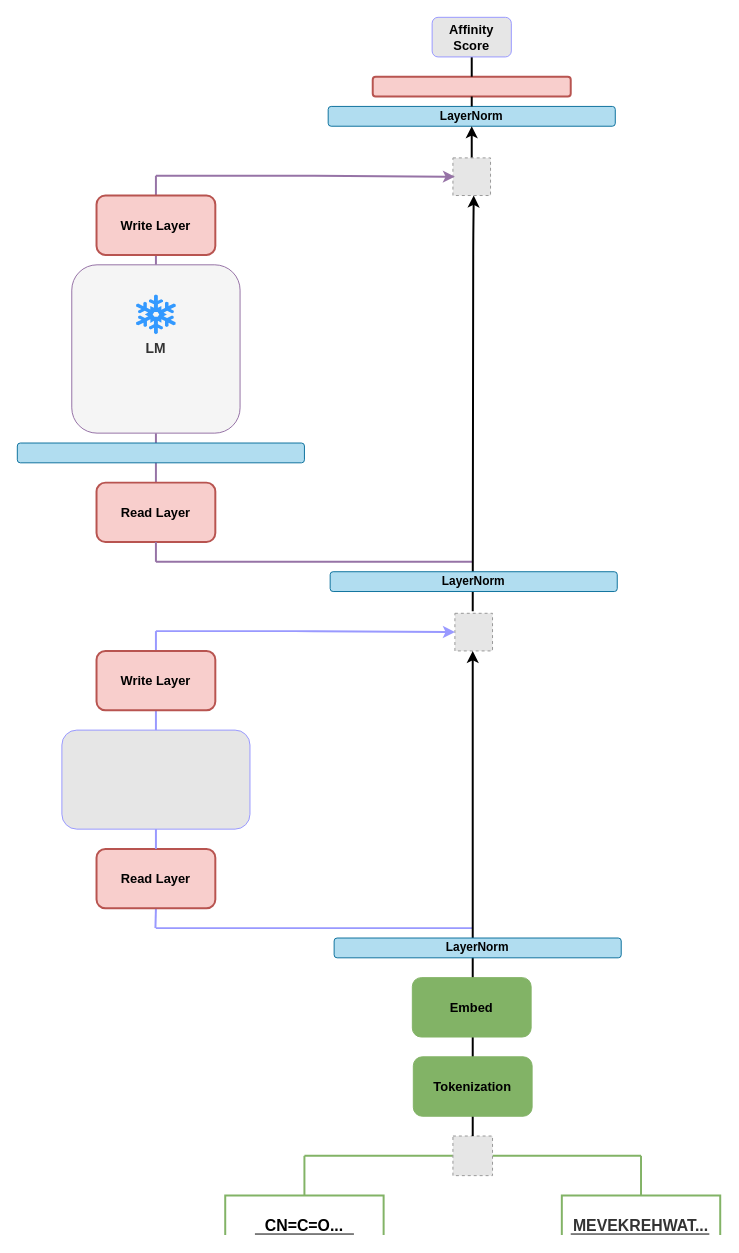
This 739x1253 diagram has some shape labels left out. Grey dashed boxes stand in for pictures. The centre of each missing label's shape, as x and y in pixels:
GroupNorm: point (160, 452)
Head: point (471, 86)
RNN Layers: point (155, 779)
